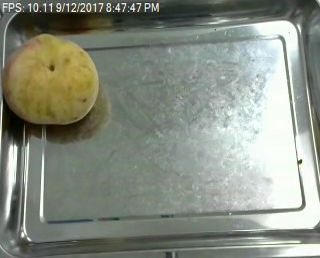Peach: (3, 33, 99, 126)
